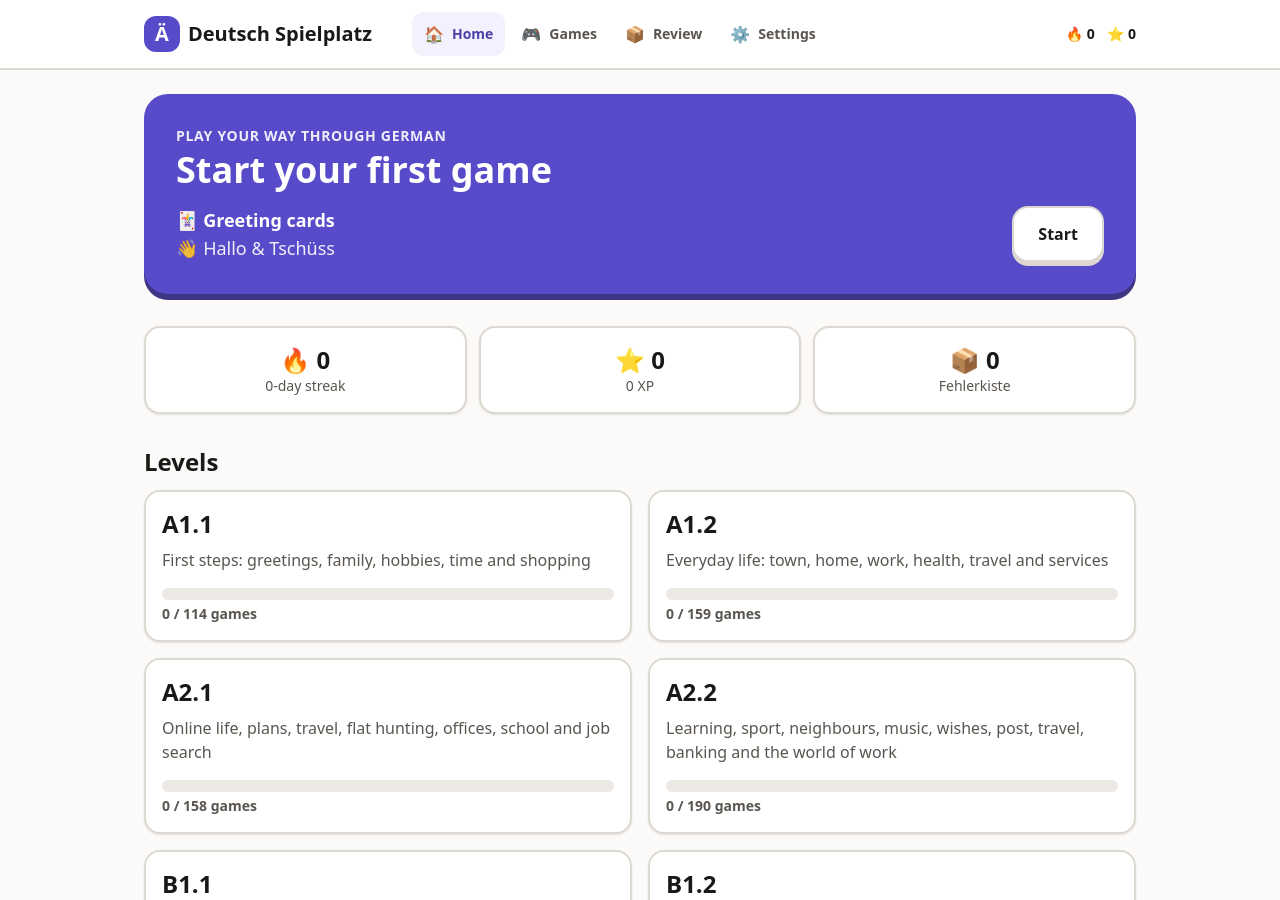
Test: Level and unit pages › walks Home → level → unit and shows the guided path
Click the link with test id "level-a1-1".
click(388, 566)  # box [144,490,632,642]
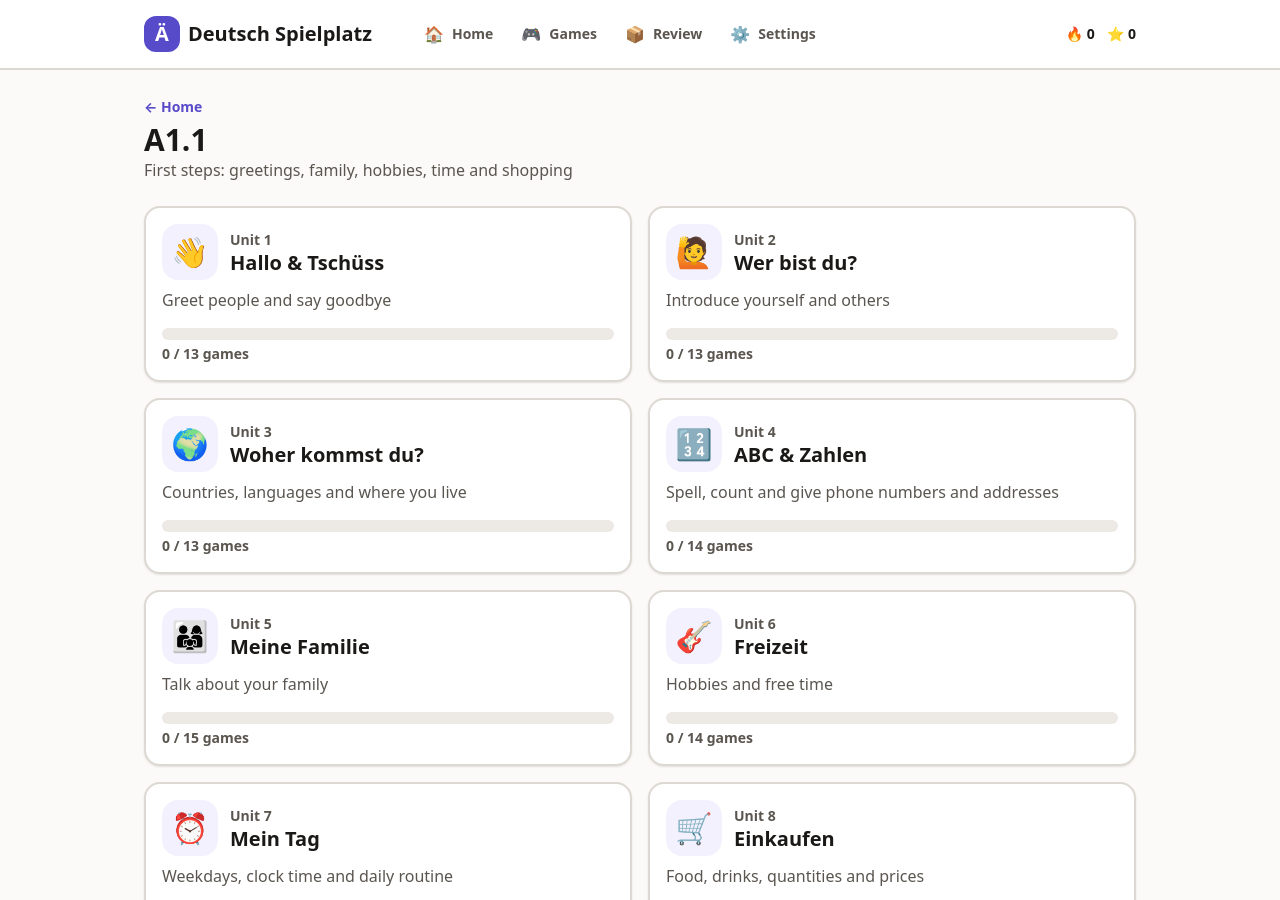
Click the link with test id "unit-a1-1-hallo".
click(388, 294)  # box [144,206,632,382]
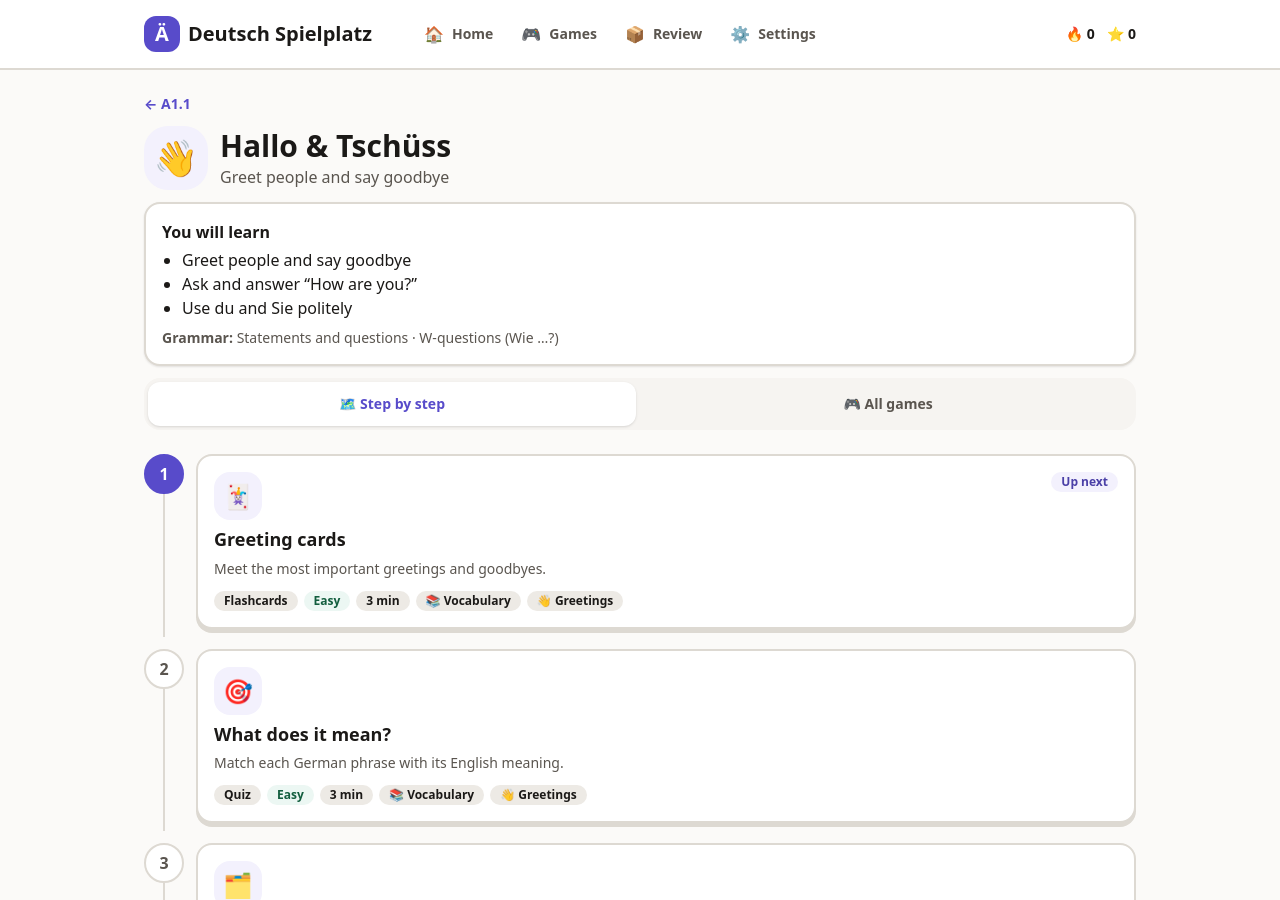
Expected: the heading "Hallo & Tschüss" is shown, [220,127,451,165]
Expected: the text "Up next" is shown, [1051,472,1118,492]
